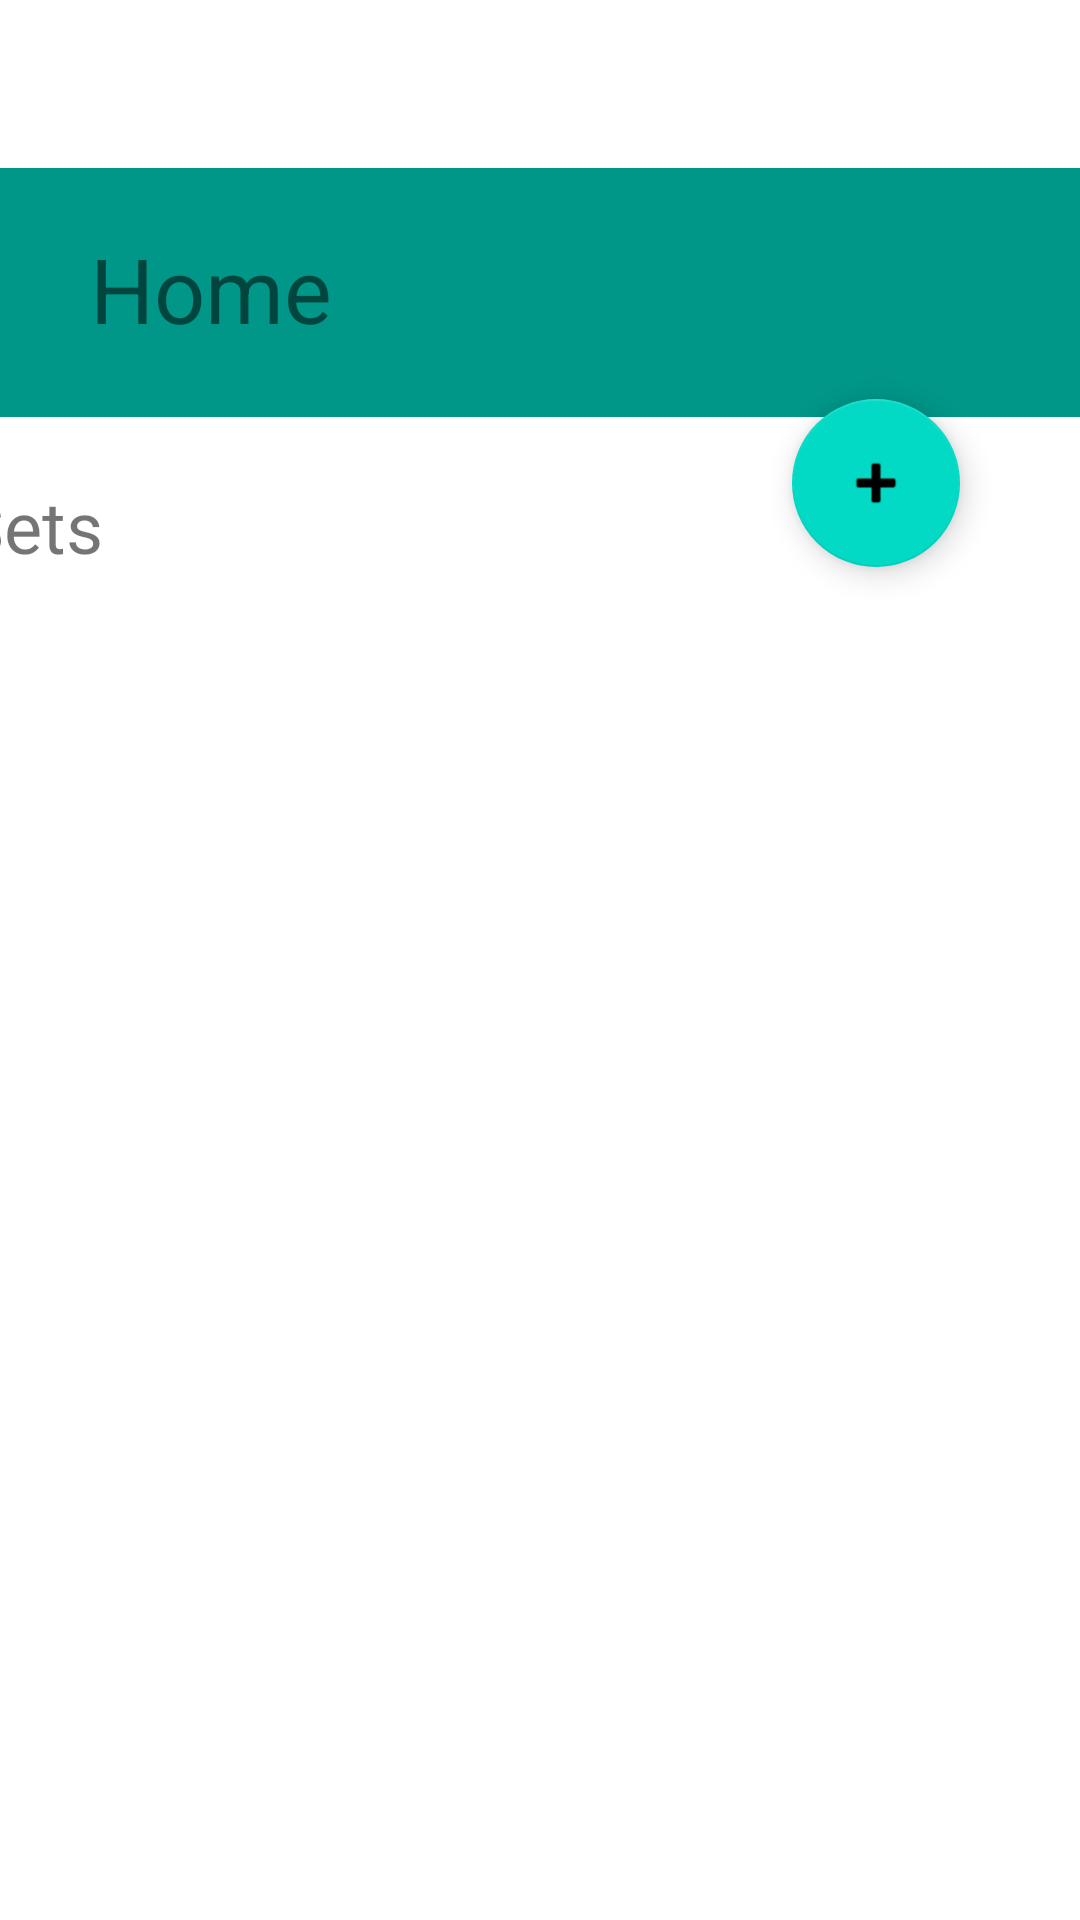

Where to tap for icons on this 1080px x 1920px app screen, as (x=x, y=y):
add: (x=876, y=483)
